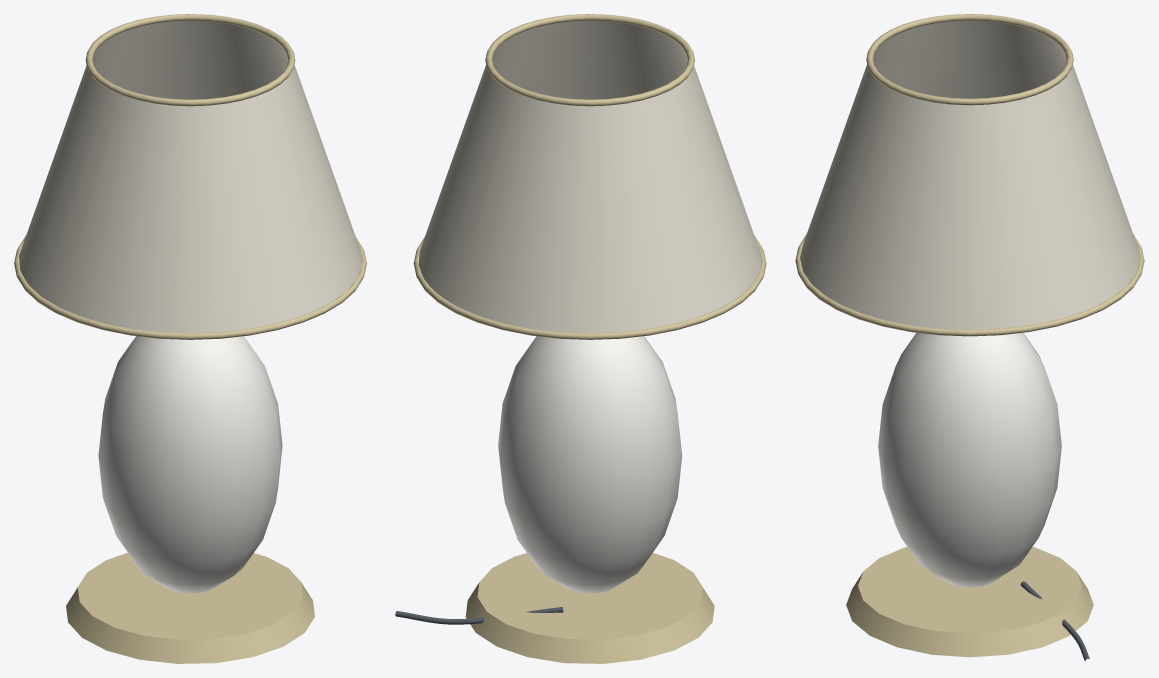
The model's file is table-lamp.glb.
The picture shows the model from 3 angles, left to right: view 1: azimuth 30°, elevation 25°; view 2: azimuth 150°, elevation 25°; view 3: azimuth 270°, elevation 25°; orthographic projection.
Parts seen in each view (by area): view 1: table-lamp; view 2: table-lamp; view 3: table-lamp.
Part boxes in pixels (bbox=[...]): table-lamp: bbox=[14, 14, 366, 663]; table-lamp: bbox=[395, 14, 766, 663]; table-lamp: bbox=[795, 14, 1144, 660].
Bounding box in the file's own units: 0.3 × 0.52 × 0.3.
